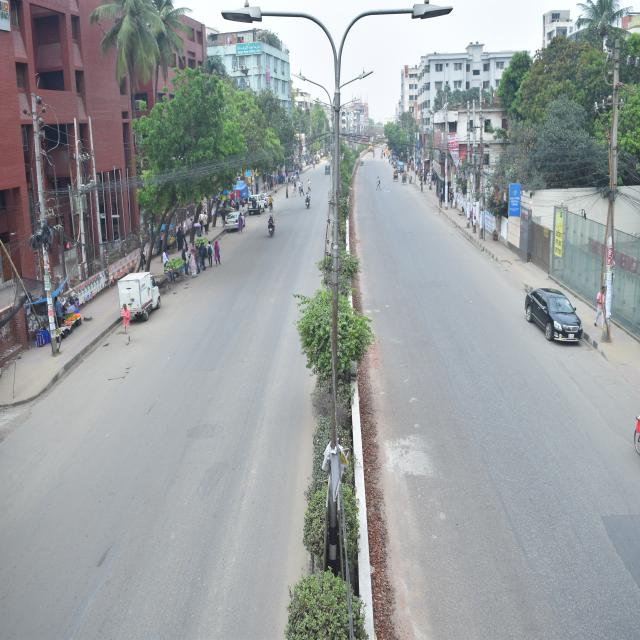car: (524, 282, 585, 346), (221, 210, 247, 235), (245, 192, 267, 217)
motorbike: (265, 214, 279, 240), (303, 192, 314, 214)
pickup-van: (117, 270, 162, 323)
